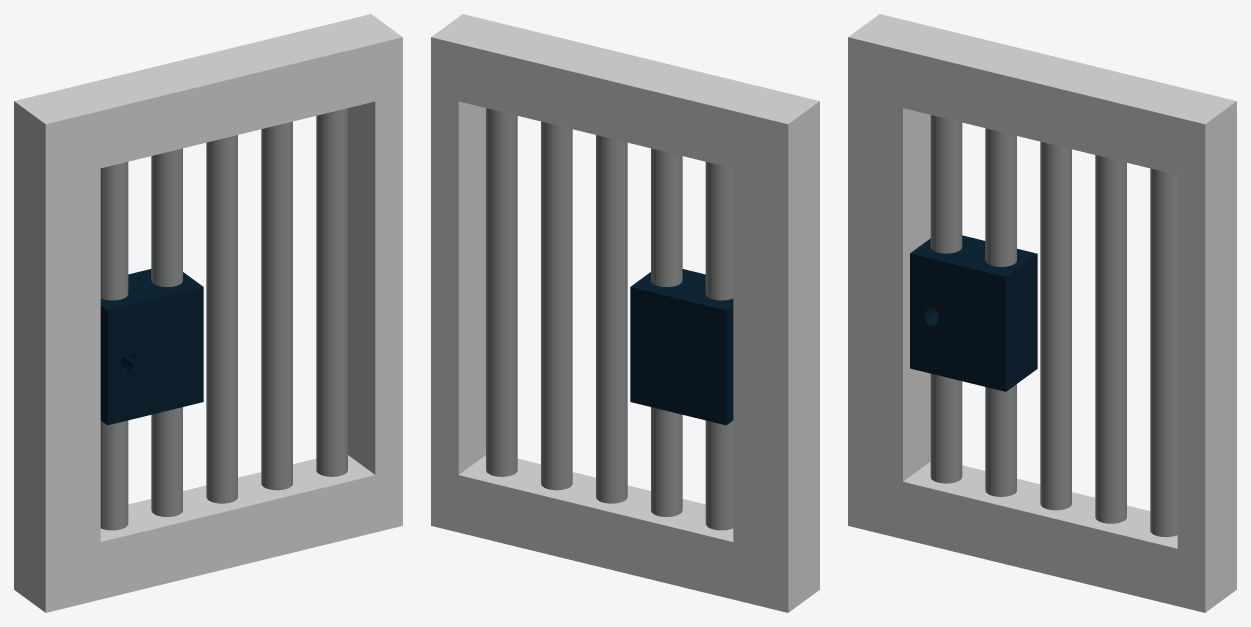
The model's file is Cell Door.fbx.
3 renders of one model, left to right at view 1: azimuth 30°, elevation 25°; view 2: azimuth 150°, elevation 25°; view 3: azimuth 330°, elevation 25°, orthographic.
Visible parts, largest first — view 1: Cube, Cube.001, Cylinder.002, Cylinder.004, Cylinder.003, Cylinder.001, Cylinder.005; view 2: Cube, Cube.001, Cylinder.002, Cylinder.004, Cylinder.003, Cylinder.001, Cylinder.005; view 3: Cube, Cube.001, Cylinder.002, Cylinder.003, Cylinder.004, Cylinder.005, Cylinder.001.
Part boxes in pixels (box(x1,y1,x2,y2)): Cube: box(14, 14, 402, 612); Cube.001: box(100, 269, 203, 425); Cylinder.002: box(206, 135, 237, 503); Cylinder.004: box(316, 108, 347, 476); Cylinder.003: box(261, 121, 292, 490); Cylinder.001: box(151, 148, 182, 516); Cylinder.005: box(100, 162, 128, 530); Cube: box(431, 14, 819, 612); Cube.001: box(630, 269, 733, 425); Cylinder.002: box(596, 135, 627, 503); Cylinder.004: box(486, 108, 517, 476); Cylinder.003: box(541, 121, 572, 490); Cylinder.001: box(651, 148, 682, 516); Cylinder.005: box(705, 162, 733, 530); Cube: box(848, 14, 1236, 612); Cube.001: box(910, 235, 1037, 391); Cylinder.002: box(1040, 141, 1071, 510); Cylinder.003: box(1095, 155, 1126, 523); Cylinder.004: box(1150, 168, 1177, 537); Cylinder.005: box(930, 115, 962, 483); Cylinder.001: box(985, 128, 1016, 496).
Bounding box in the file's own units: 1300 × 1700 × 200.
